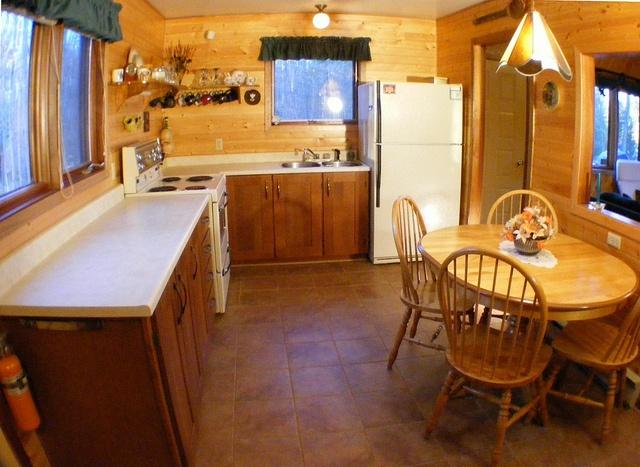Kursi: (422, 247, 548, 466), (524, 294, 639, 444), (385, 193, 443, 372)
Meja: (421, 223, 637, 322)
